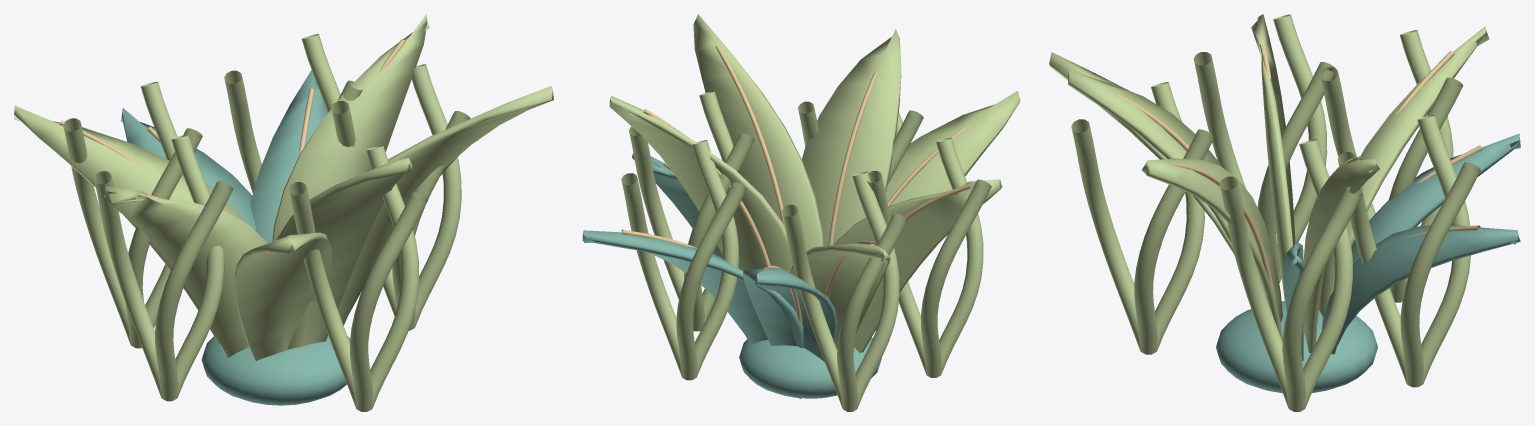
Rendered from bio_mist_leaf_09_near.glb.
The picture shows the model from 3 angles, left to right: view 1: azimuth 30°, elevation 25°; view 2: azimuth 150°, elevation 25°; view 3: azimuth 270°, elevation 25°; orthographic projection. The views are drawn at different scales.
Visible parts, largest first — view 1: Spiral filament.012, Spiral filament.006, Cupped condensate leaf.008, Cupped condensate leaf.004, Cupped condensate leaf.007, Cupped condensate leaf.002, Spiral filament.003, Root rosette, Cupped condensate leaf.005, Spiral filament, Cupped condensate leaf.001, Cupped condensate leaf.003 (+2 smaller); view 2: Cupped condensate leaf.002, Spiral filament.003, Spiral filament.009, Cupped condensate leaf.005, Spiral filament.012, Cupped condensate leaf.008, Cupped condensate leaf.004, Cupped condensate leaf.007, Spiral filament, Cupped condensate leaf.003, Root rosette, Cupped condensate leaf.006 (+7 smaller); view 3: Spiral filament, Spiral filament.006, Spiral filament.009, Spiral filament.012, Root rosette, Cupped condensate leaf.003, Spiral filament.003, Cupped condensate leaf.001, Cupped condensate leaf.005, Cupped condensate leaf.004, Cupped condensate leaf.002, Cupped condensate leaf.006 (+4 smaller).
Part boxes in pixels (x1,y1,x2,y2): Spiral filament.012: [94, 135, 233, 401]; Spiral filament.006: [289, 145, 427, 411]; Cupped condensate leaf.008: [272, 14, 429, 241]; Cupped condensate leaf.004: [104, 186, 267, 357]; Cupped condensate leaf.007: [234, 232, 332, 360]; Cupped condensate leaf.002: [276, 158, 412, 349]; Spiral filament.003: [63, 81, 202, 348]; Root rosette: [201, 335, 349, 405]; Cupped condensate leaf.005: [337, 86, 553, 325]; Spiral filament: [331, 64, 470, 330]; Cupped condensate leaf.001: [14, 106, 245, 343]; Cupped condensate leaf.003: [250, 70, 327, 243]; Cupped condensate leaf.002: [802, 29, 901, 246]; Spiral filament.003: [782, 171, 907, 411]; Spiral filament.009: [621, 140, 746, 380]; Cupped condensate leaf.005: [693, 14, 823, 250]; Spiral filament.012: [866, 137, 991, 377]; Cupped condensate leaf.008: [609, 95, 792, 272]; Cupped condensate leaf.004: [834, 179, 1002, 352]; Cupped condensate leaf.007: [885, 90, 1020, 205]; Spiral filament: [629, 91, 754, 331]; Cupped condensate leaf.003: [582, 230, 803, 348]; Root rosette: [739, 337, 881, 398]; Cupped condensate leaf.006: [743, 268, 837, 398]; Spiral filament: [1219, 139, 1362, 411]; Spiral filament.006: [1071, 82, 1214, 354]; Spiral filament.009: [1337, 114, 1480, 387]; Spiral filament.012: [1193, 14, 1335, 283]; Root rosette: [1216, 301, 1377, 393]; Cupped condensate leaf.003: [1322, 225, 1520, 354]; Spiral filament.003: [1320, 30, 1463, 302]; Cupped condensate leaf.001: [1319, 26, 1489, 317]; Cupped condensate leaf.005: [1142, 158, 1282, 340]; Cupped condensate leaf.004: [1251, 14, 1295, 304]; Cupped condensate leaf.002: [1068, 70, 1231, 242]; Cupped condensate leaf.006: [1351, 134, 1520, 264].
Size of the model in its own units: 1.72 by 1.3 by 1.74.
